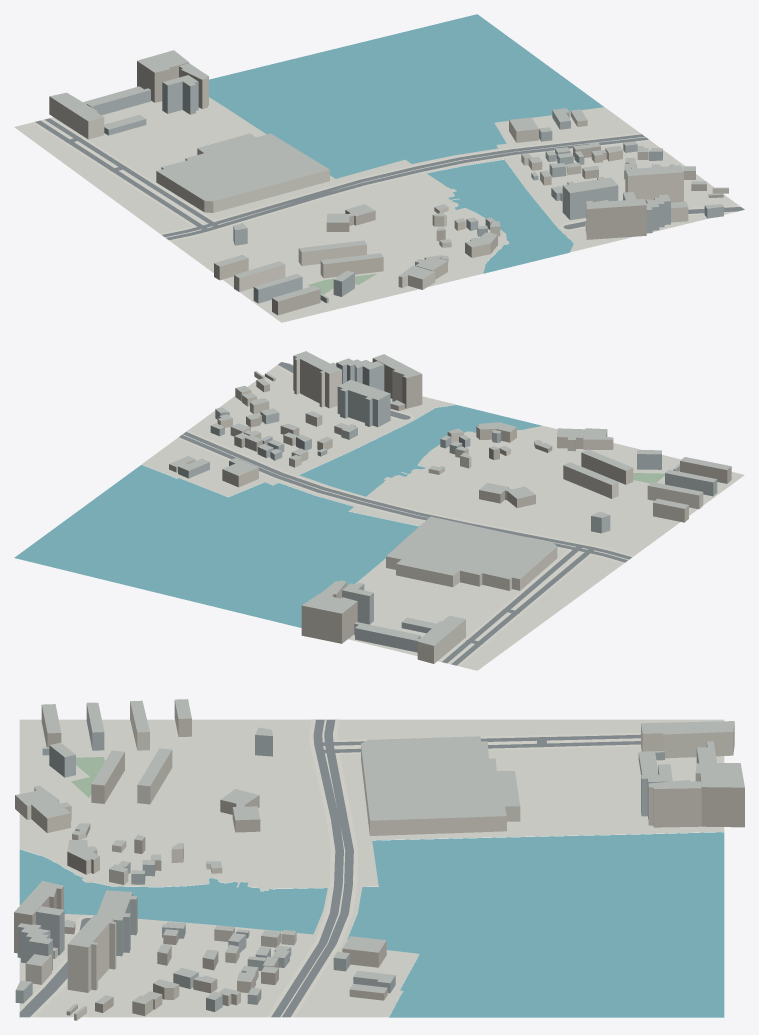
3 views of the same model, one above another, from view 1: azimuth 30°, elevation 25°; view 2: azimuth 150°, elevation 25°; view 3: azimuth 270°, elevation 25° (orthographic). The views are drawn at different scales.
Parts seen in each view (by area): view 1: city; view 2: city; view 3: city.
Part boxes in pixels (<box>): city: <box>14,14,744,322</box>; city: <box>14,351,744,670</box>; city: <box>14,699,744,1020</box>.
Size of the model in its own units: 510 by 35.88 by 519.
